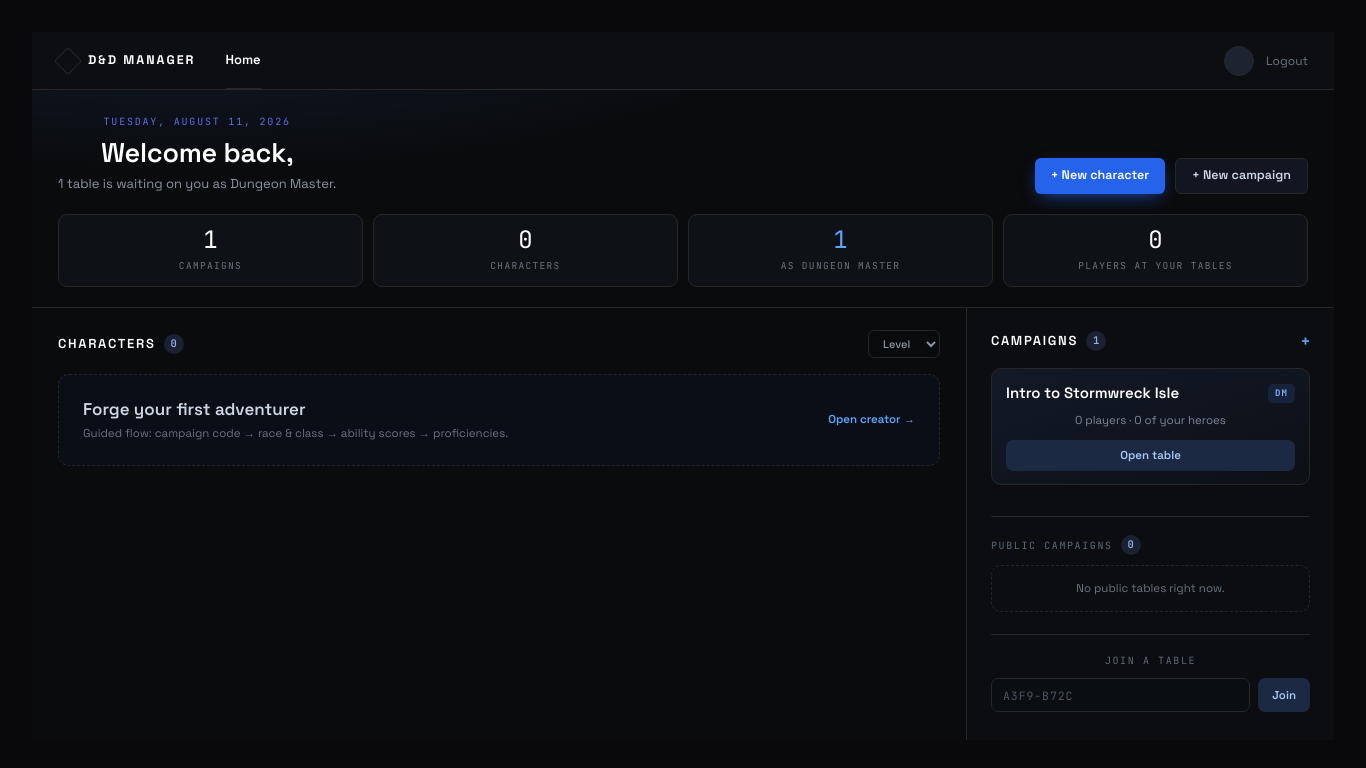
Scenario: App view campaign flow › renders campaign name, privacy badge, date, description, and stats in the detail view
Click the button "Intro to Stormwreck Isle": (1093, 394) x1=1006 y1=382 x2=1179 y2=405
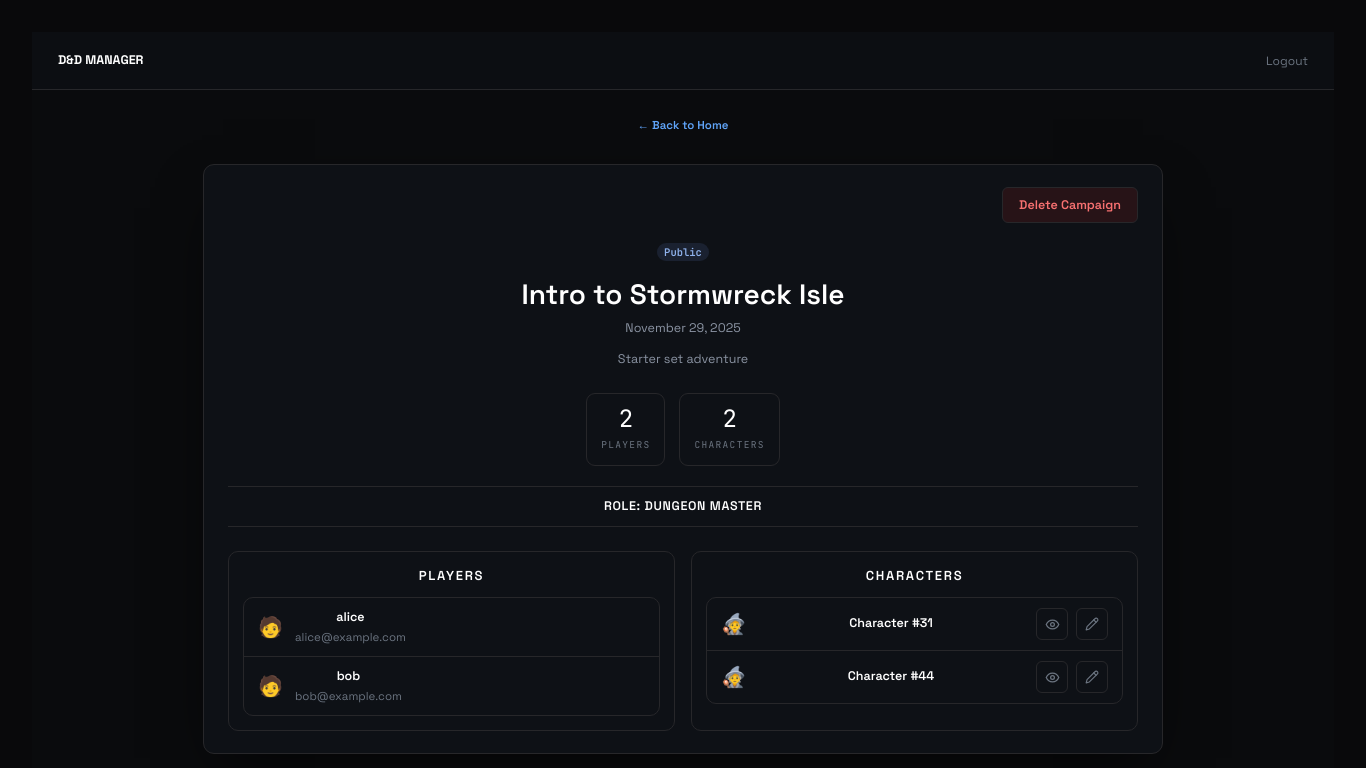
Expected: the heading "Intro to Stormwreck Isle" is shown, x1=521 y1=276 x2=844 y2=312
Result: the text "November 29, 2025" is shown at x1=625 y1=320 x2=741 y2=336
Result: the text "Starter set adventure" is shown at x1=618 y1=351 x2=748 y2=367
